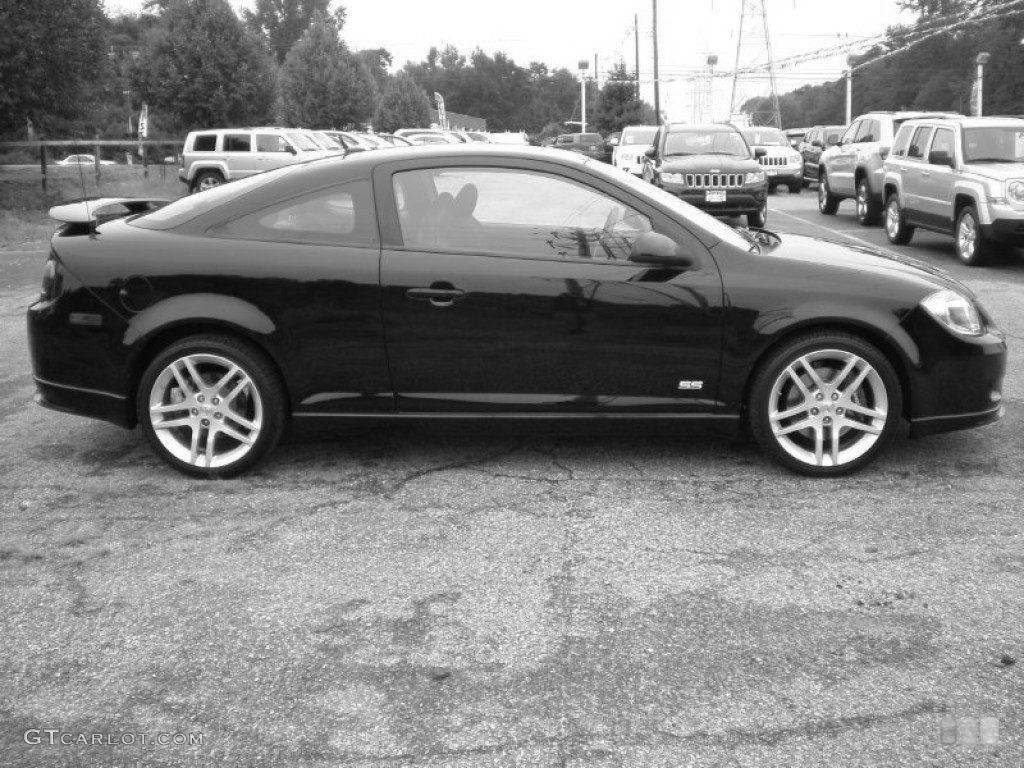car: (22, 141, 1011, 485)
